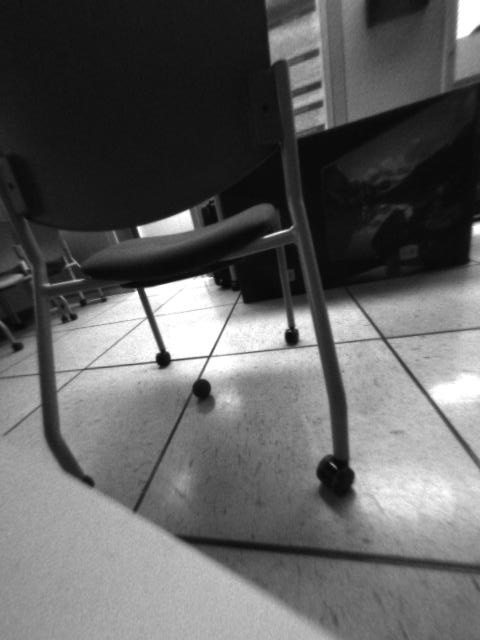dogtoy: (185, 372, 219, 408)
